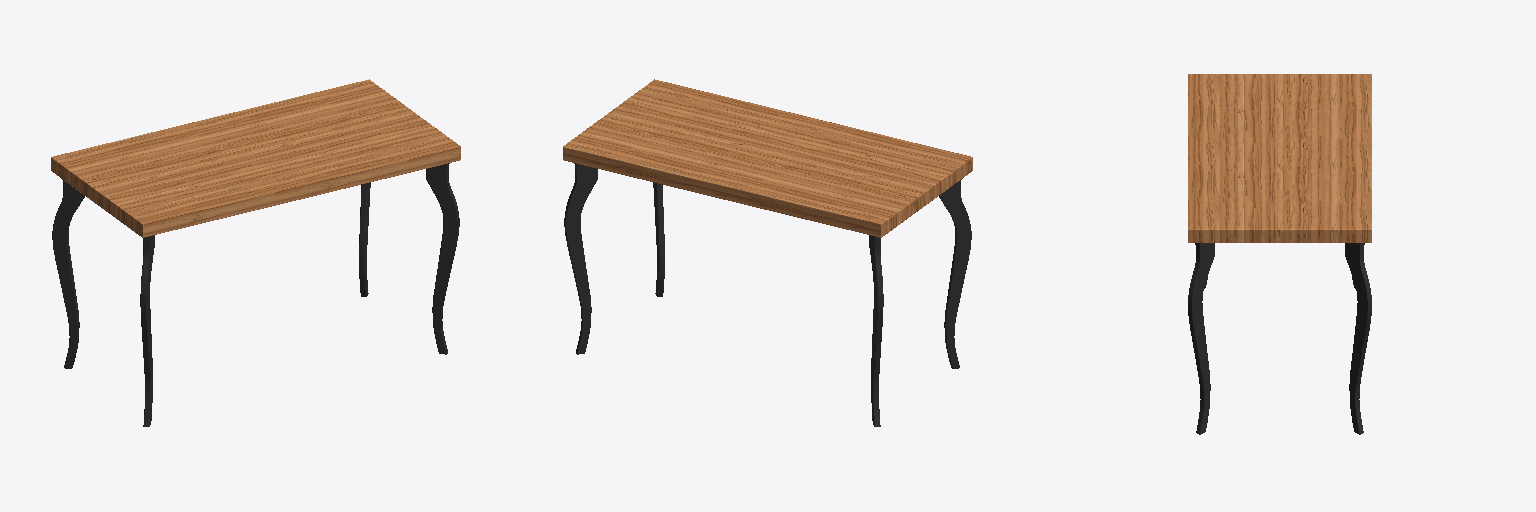
3 views of the same model, side by side, from view 1: azimuth 30°, elevation 25°; view 2: azimuth 150°, elevation 25°; view 3: azimuth 270°, elevation 25° (orthographic).
Size of the model in its own units: 1.2 by 0.75 by 0.6.
2 materials, 2 textured.